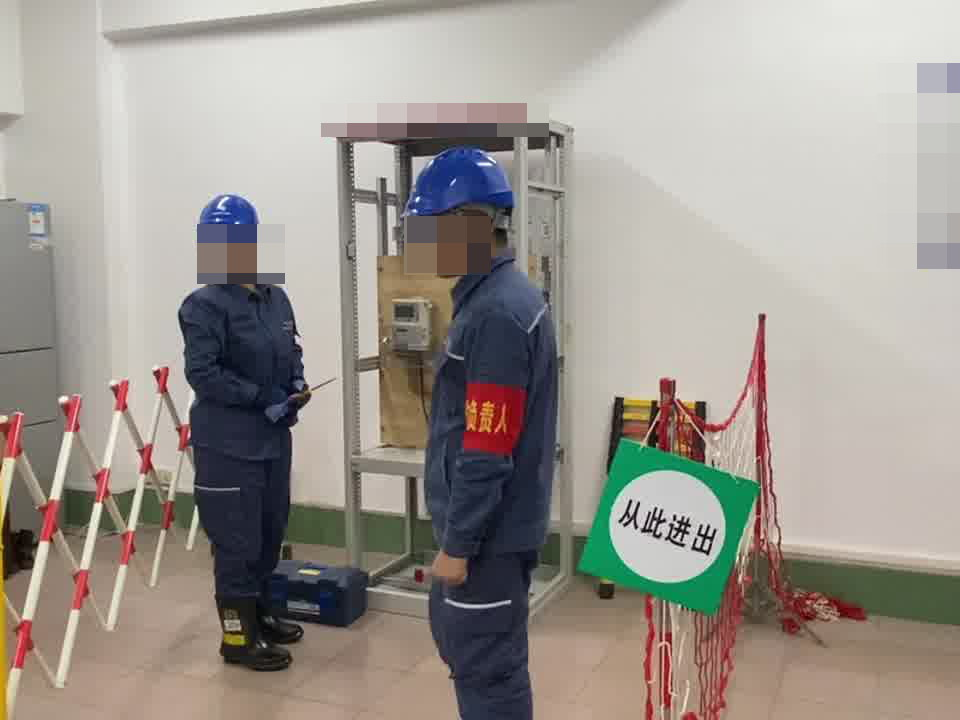badge: (463, 382, 530, 458)
downsuit: (427, 557, 546, 720), (191, 439, 294, 608)
glove: (259, 391, 297, 426)
goggles: (195, 235, 255, 277)
halt: (401, 145, 520, 274), (194, 193, 269, 280)
hand: (425, 549, 469, 585)
inear: (450, 202, 500, 258)
intosign: (582, 436, 759, 615)
person: (398, 141, 570, 720), (171, 191, 313, 664)
shoe: (214, 598, 307, 670)
upsuit: (423, 257, 563, 556), (180, 280, 306, 434)
